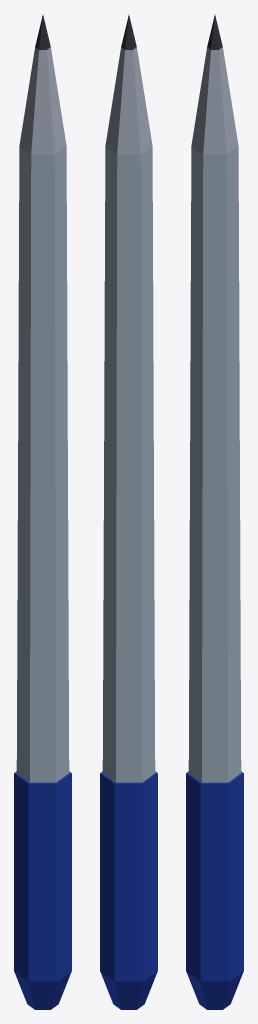
Rendered from Tool_Ballpoint.fbx.
3 views of the same model, side by side, from view 1: azimuth 90°, elevation 25°; view 2: azimuth 150°, elevation 25°; view 3: azimuth 270°, elevation 25° (orthographic).
Visible parts, largest first — view 1: Tool_Ballpoint; view 2: Tool_Ballpoint; view 3: Tool_Ballpoint.
Boxes of the visible parts, x1,y1,x2,y2 form: Tool_Ballpoint: (14, 15, 71, 1009); Tool_Ballpoint: (100, 15, 157, 1009); Tool_Ballpoint: (186, 15, 243, 1009).
Size of the model in its own units: 0.0686 by 1.5 by 0.0792.
